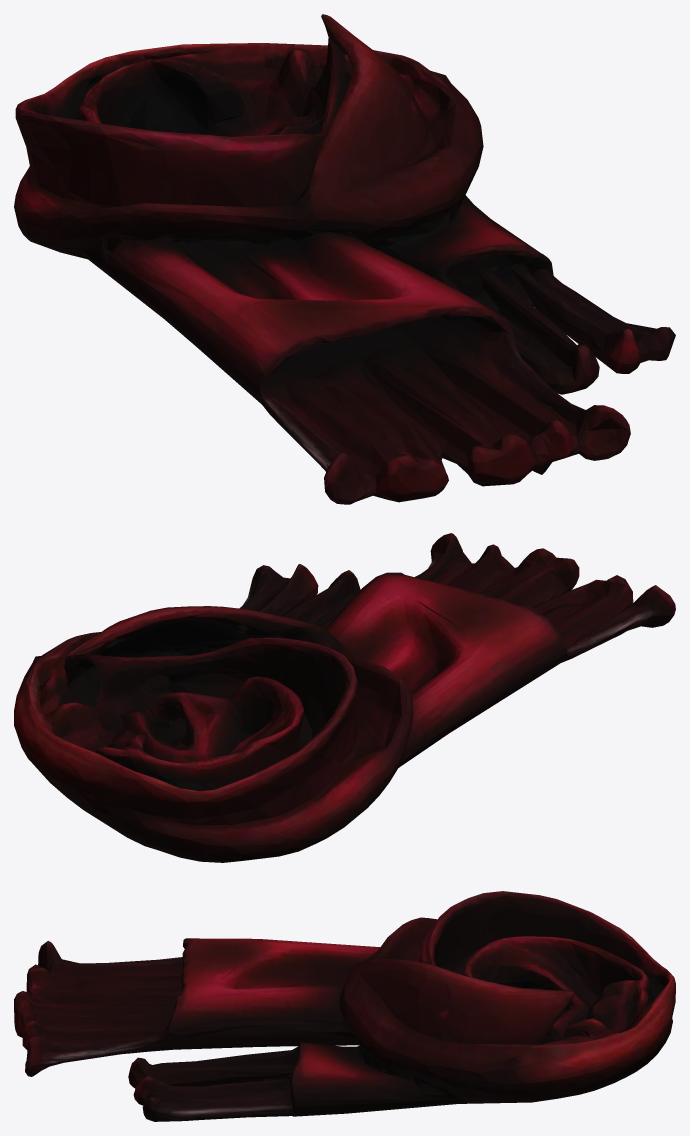
The picture shows the model from 3 angles, top to bottom: view 1: azimuth 30°, elevation 25°; view 2: azimuth 150°, elevation 25°; view 3: azimuth 270°, elevation 25°; orthographic projection. The views are drawn at different scales.
Parts seen in each view (by area): view 1: geometry_0; view 2: geometry_0; view 3: geometry_0.
Boxes of the visible parts, left/top/right/bottom form: geometry_0: left=14, top=14, right=675, bottom=504; geometry_0: left=14, top=533, right=675, bottom=862; geometry_0: left=14, top=891, right=675, bottom=1121.
Size of the model in its own units: 0.5732 by 0.2113 by 0.9981.
Materials: 1 (1 with a texture image).
